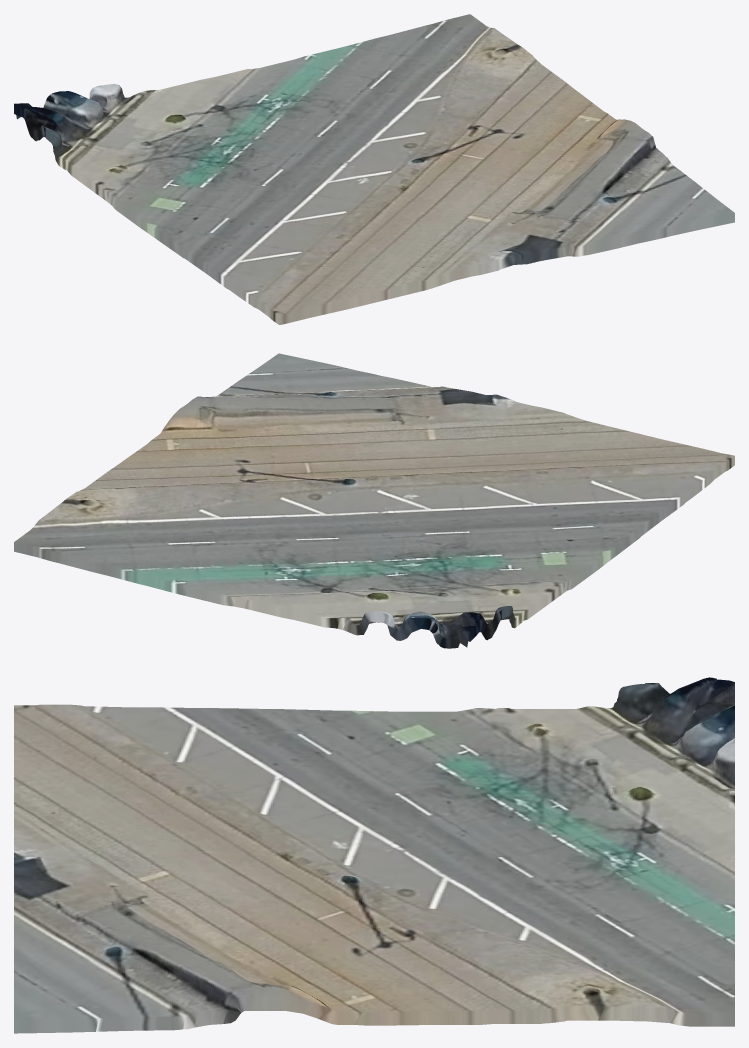
File: z20-167773-405199-h0-yup-uvflip-v3-world.glb
3 renders of one model, top to bottom at view 1: azimuth 30°, elevation 25°; view 2: azimuth 150°, elevation 25°; view 3: azimuth 270°, elevation 25°, orthographic. The views are drawn at different scales.
Bounding box in the file's own units: 30.16 × 2.48 × 30.32.
Materials: 1 (1 with a texture image).
